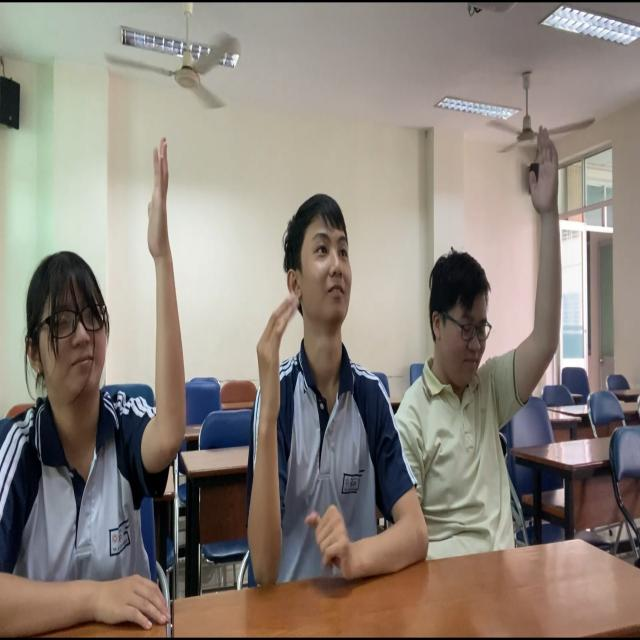raise_hand: (2, 141, 189, 624), (403, 122, 566, 571), (245, 187, 372, 587)
